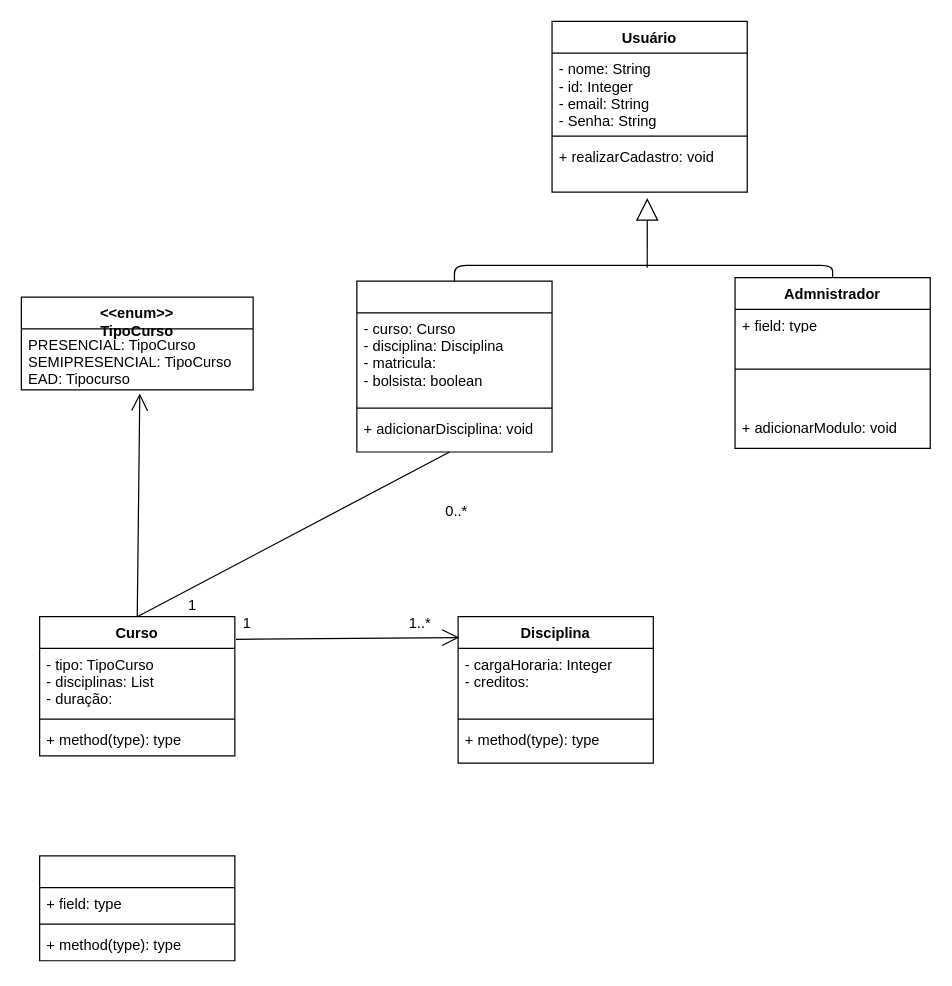
This 952x986 diagram has some shape labels left out. The shapes that lost their labels are listed below. From the top down, each one's box as (x1, y1, x2, y2) in pixels, then its label:
(356, 280, 552, 452): Aluno
(38, 855, 235, 961): Sistema
